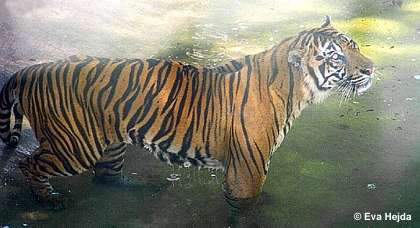Tigre: (4, 21, 379, 208)
